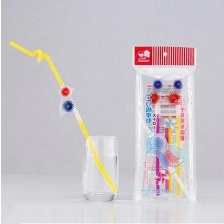drinking_straw: (5, 36, 122, 196)
glass: (78, 130, 121, 205)
